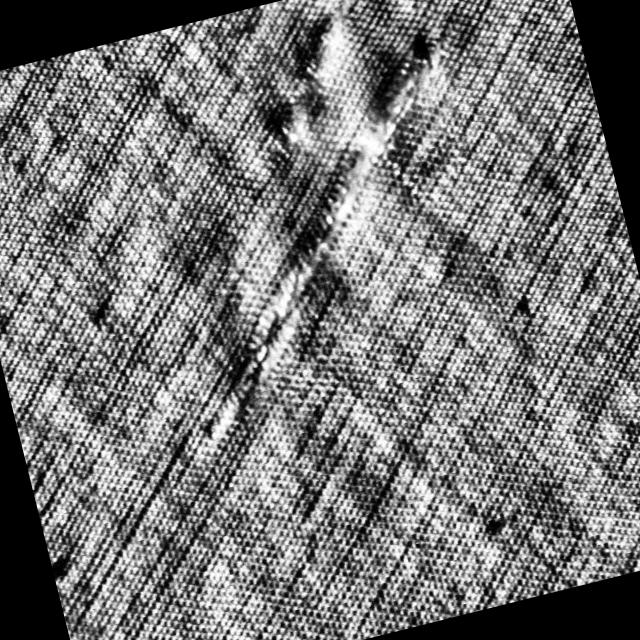gray stitch: (142, 0, 507, 395)
